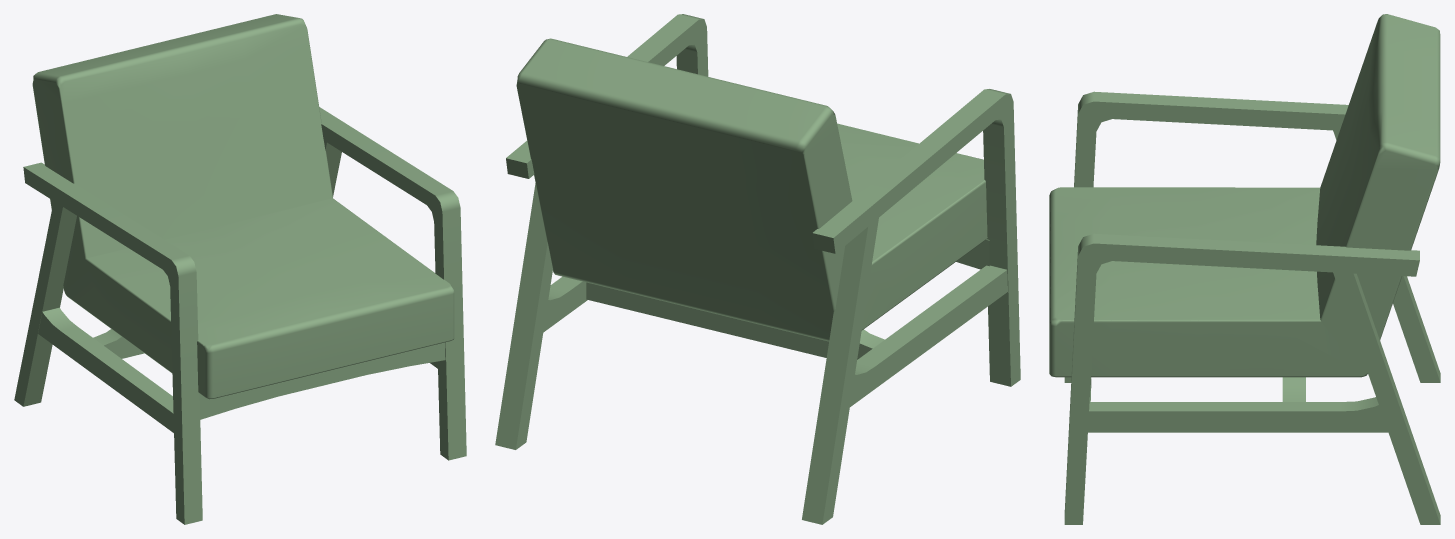
File: mdl_loungechair_01.fbx
3 views of the same model, side by side, from view 1: azimuth 30°, elevation 25°; view 2: azimuth 150°, elevation 25°; view 3: azimuth 270°, elevation 25° (orthographic). The views are drawn at different scales.
Parts seen in each view (by area): view 1: mdl_loungechair_01; view 2: mdl_loungechair_01; view 3: mdl_loungechair_01.
Part boxes in pixels (x1,y1,x2,y2): mdl_loungechair_01: (14, 14, 466, 524); mdl_loungechair_01: (495, 14, 1020, 524); mdl_loungechair_01: (1049, 14, 1440, 524).
Size of the model in its own units: 71.37 by 81.36 by 77.79.
